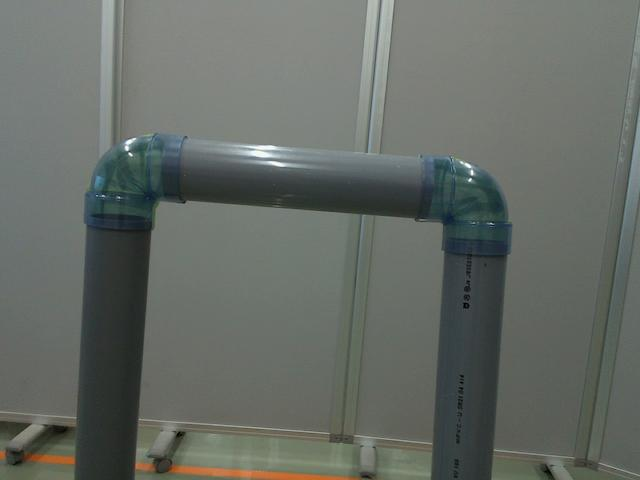bent: (81, 132, 193, 232), (417, 152, 512, 255)
